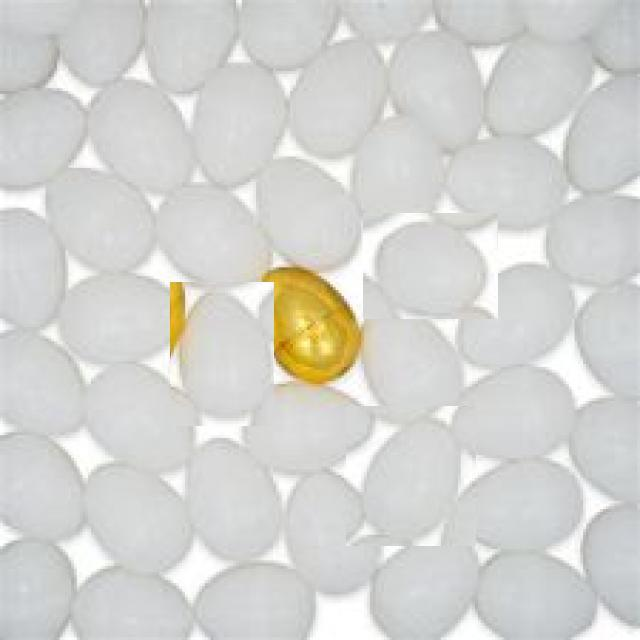Egg: (346, 406, 476, 546), (88, 452, 207, 590), (448, 350, 580, 464), (170, 283, 274, 427), (363, 213, 498, 319), (188, 51, 292, 178)
